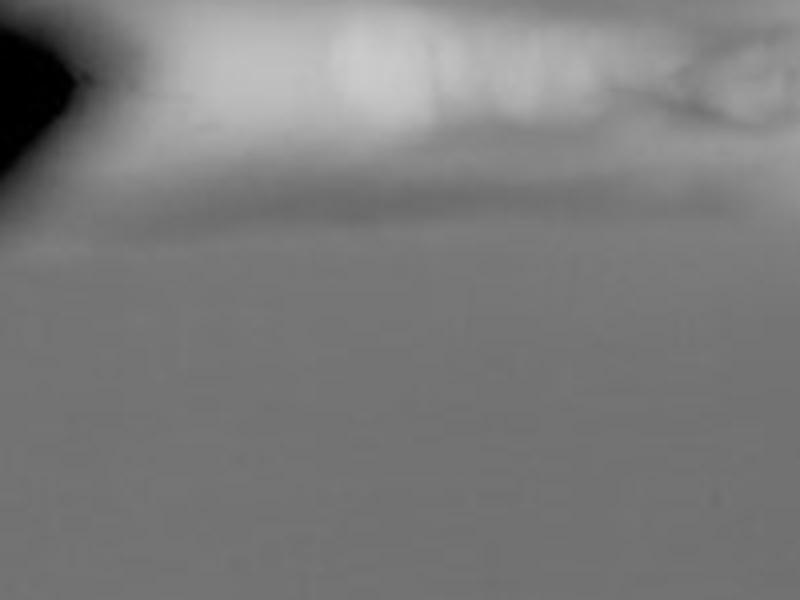defect: (2, 23, 73, 175)
